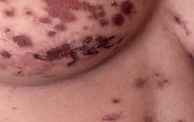SJS-TEN: (0, 0, 152, 114), (91, 4, 194, 122)
